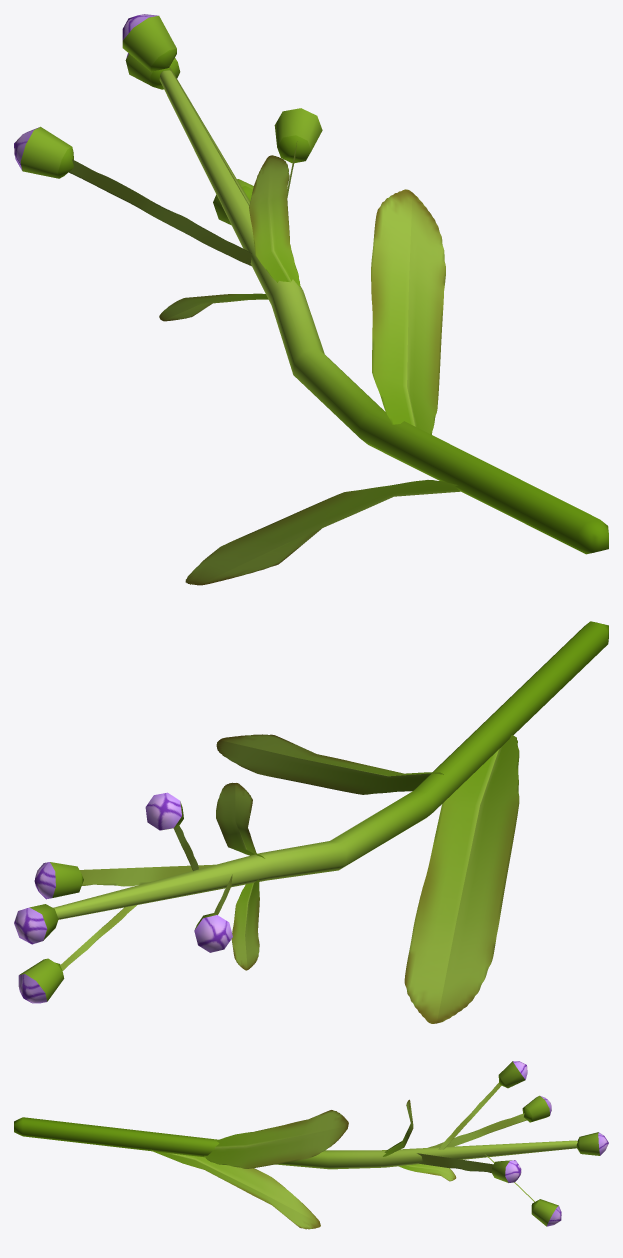
The model's file is SM_Forgetmenot_lilac_closed.fbx.
The picture shows the model from 3 angles, top to bottom: view 1: azimuth 30°, elevation 25°; view 2: azimuth 150°, elevation 25°; view 3: azimuth 270°, elevation 25°; orthographic projection. The views are drawn at different scales.
Parts seen in each view (by area): view 1: Forgetmenot_lilac_closed; view 2: Forgetmenot_lilac_closed; view 3: Forgetmenot_lilac_closed.
Boxes of the visible parts, <box> form: Forgetmenot_lilac_closed: <box>14,14,608,585</box>; Forgetmenot_lilac_closed: <box>14,621,608,1023</box>; Forgetmenot_lilac_closed: <box>14,1061,608,1229</box>.
Size of the model in its own units: 22.28 by 22.95 by 61.74.
